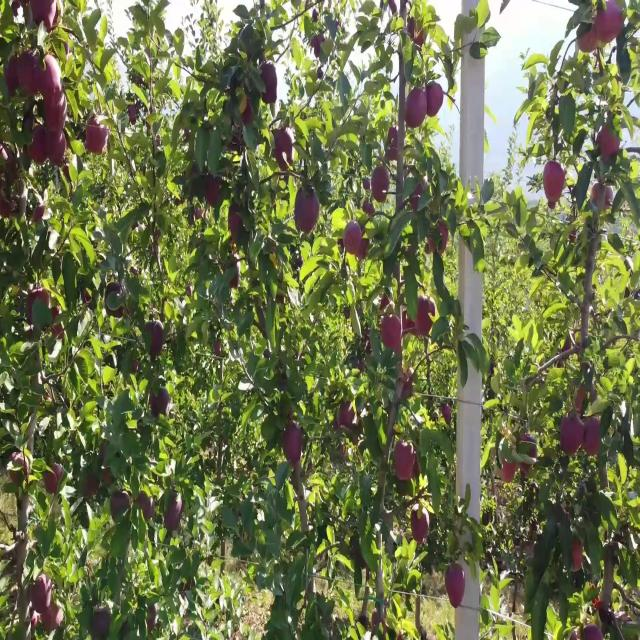apple: (596, 0, 624, 43), (444, 561, 467, 610), (84, 113, 109, 156), (296, 191, 320, 235), (560, 412, 584, 455), (24, 120, 46, 164), (32, 0, 60, 34), (44, 92, 68, 130), (28, 575, 52, 612), (380, 319, 404, 356), (48, 127, 68, 169), (20, 56, 40, 98), (40, 56, 60, 98), (260, 63, 279, 107), (544, 163, 567, 199), (604, 0, 624, 41), (32, 0, 56, 34), (276, 127, 294, 172), (404, 92, 426, 128), (284, 426, 304, 464), (396, 440, 414, 482), (28, 291, 50, 325), (600, 127, 620, 164), (520, 433, 537, 476), (428, 220, 448, 256), (164, 497, 184, 533), (108, 284, 128, 320), (4, 56, 21, 98), (412, 511, 432, 546), (344, 220, 363, 256), (28, 127, 46, 165), (372, 170, 392, 204), (44, 462, 64, 496), (8, 455, 29, 487), (592, 184, 615, 213), (596, 7, 614, 44), (576, 383, 597, 414), (420, 298, 437, 336), (396, 369, 415, 402), (584, 419, 601, 455), (0, 184, 17, 220), (112, 490, 131, 521), (44, 1, 60, 36), (44, 604, 63, 633), (596, 184, 615, 213), (428, 85, 444, 119), (228, 206, 244, 240), (152, 391, 170, 418), (580, 28, 598, 55), (148, 327, 164, 357), (4, 149, 18, 183), (208, 177, 223, 208), (408, 21, 425, 48), (388, 127, 400, 164), (404, 305, 419, 334), (240, 99, 255, 128), (140, 490, 154, 521), (52, 305, 64, 340), (340, 405, 357, 428), (356, 234, 370, 261), (412, 184, 425, 213), (84, 476, 100, 498), (604, 184, 615, 213), (372, 611, 387, 631), (12, 0, 27, 20), (232, 255, 240, 292), (504, 462, 517, 484), (312, 35, 325, 57), (584, 625, 604, 639), (576, 540, 584, 574), (12, 1, 26, 20), (148, 604, 157, 633), (32, 206, 45, 226), (128, 106, 139, 128), (380, 298, 392, 315), (412, 455, 420, 478), (592, 597, 604, 612), (444, 405, 452, 427), (364, 206, 376, 220), (32, 611, 40, 629), (104, 469, 112, 484), (132, 362, 140, 377), (216, 341, 223, 357), (392, 7, 401, 16), (340, 447, 347, 457), (360, 419, 364, 432)
